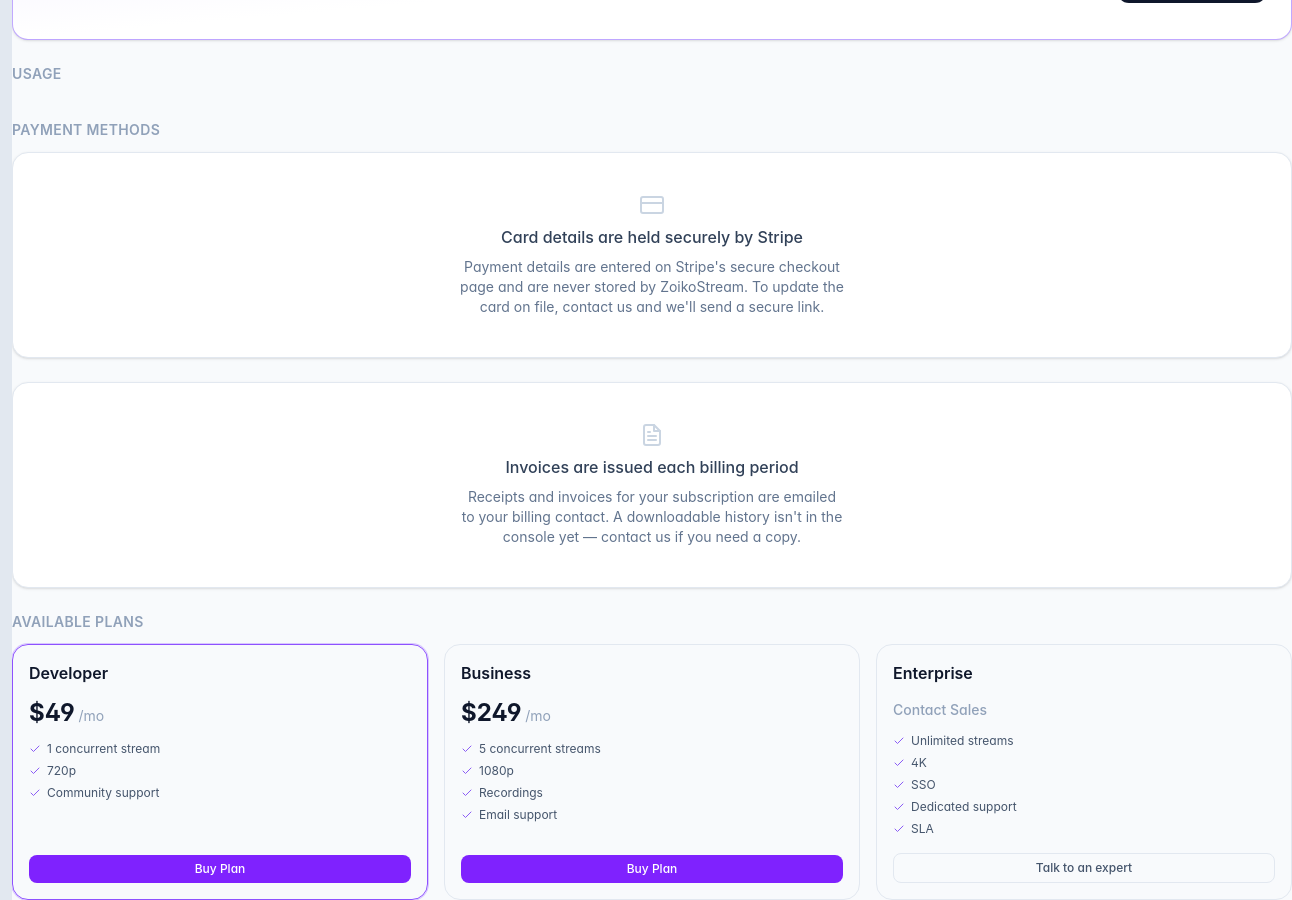
it: clicking Buy Plan starts a first purchase › shows progress on the card that was clicked
(page scrolled)
Expected: the heading "Available Plans" is shown, [12,612,144,632]
Click the button "Buy Plan" below "Community support".
click(220, 869)  # box [29,855,411,883]
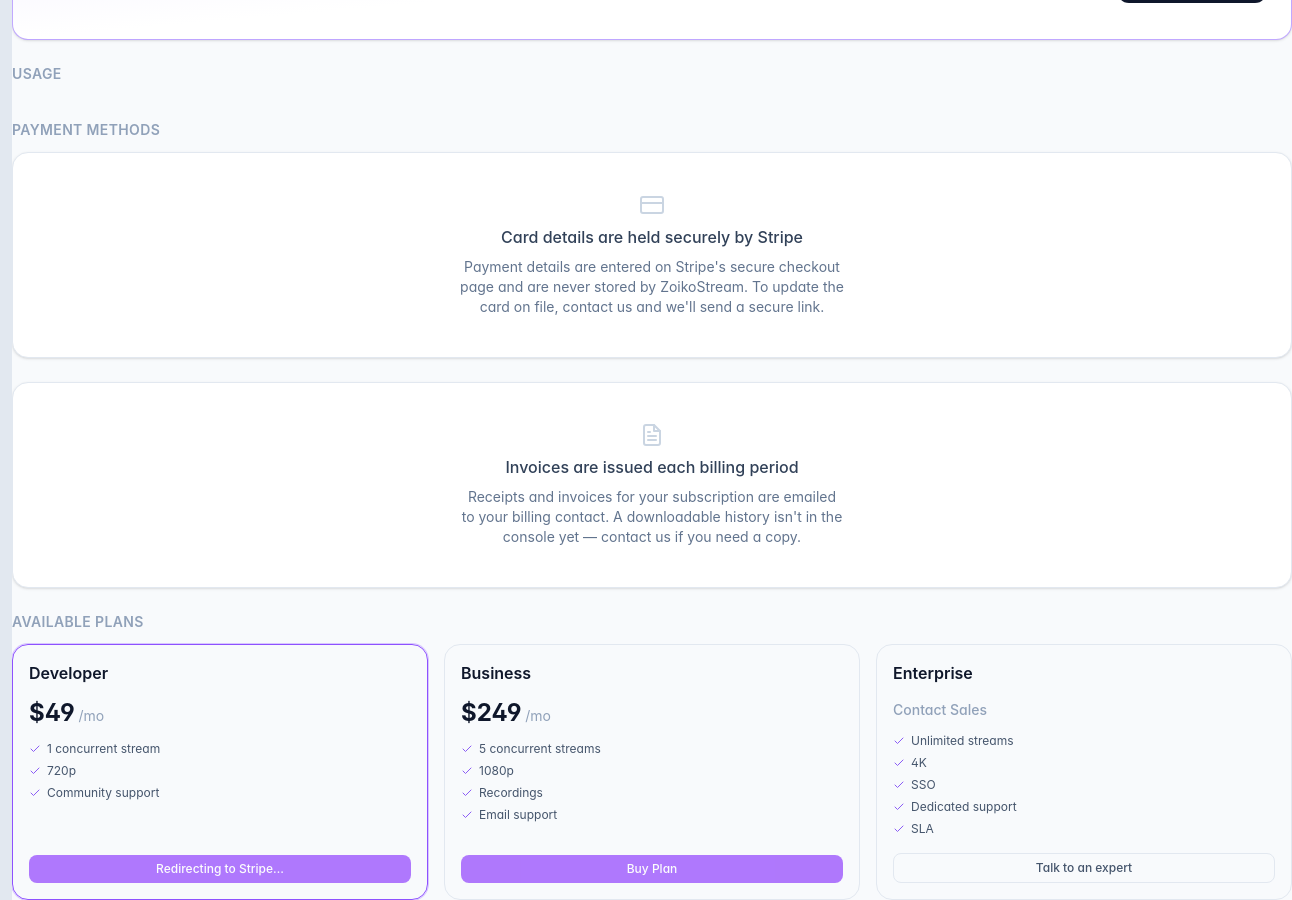
Expected: the button "Redirecting to Stripe…" is shown, [29,855,411,883]
